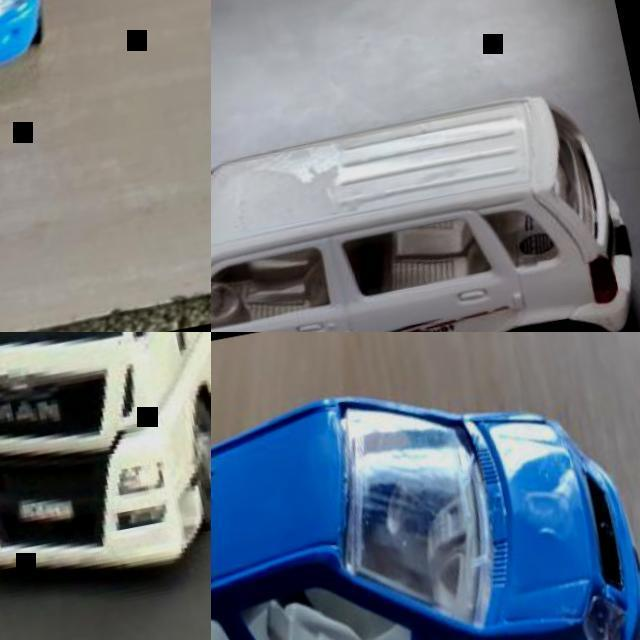car: (250, 404, 637, 639)
